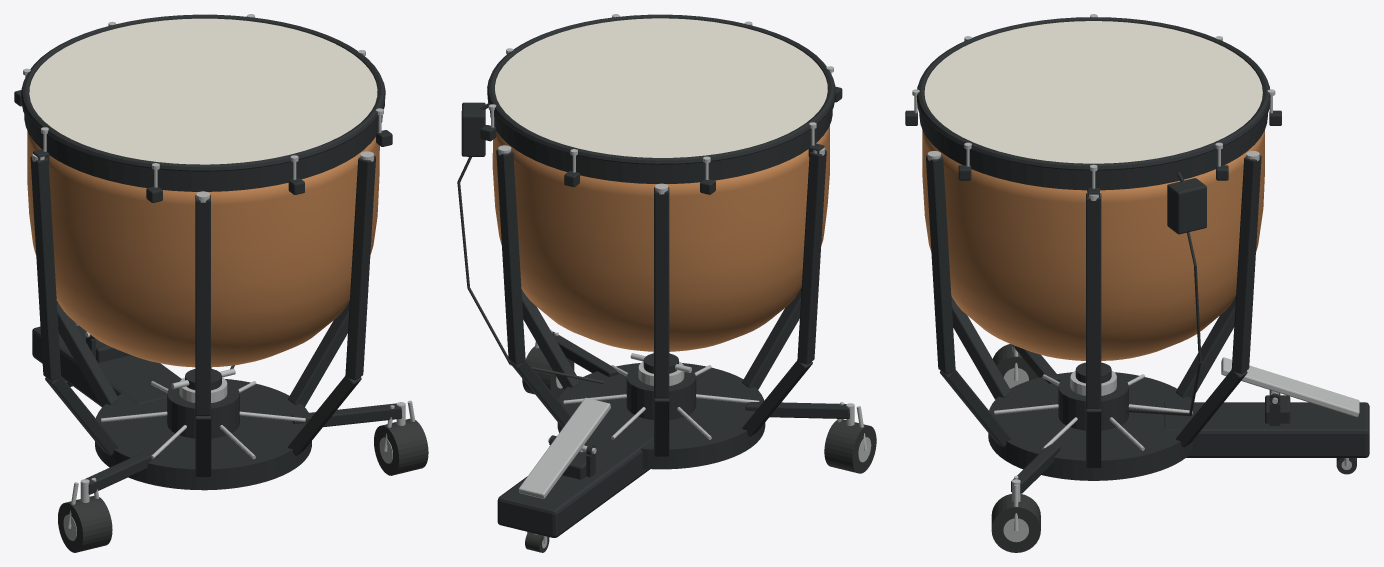
File: timpani_LOD0.glb
3 views of the same model, side by side, from view 1: azimuth 30°, elevation 25°; view 2: azimuth 150°, elevation 25°; view 3: azimuth 270°, elevation 25° (orthographic). The views are drawn at different scales.
Parts seen in each view (by area): view 1: Kettle shell with underside aperture, Taut drumhead, Lower radial platform, Counterhoop, Upper support band, Frame upper upright 5, Frame upper upright 3, Pedal pedestal, Frame upper upright 4, Counter hoop wall, Central mechanism housing, Wheel tire 1 (+8 smaller); view 2: Kettle shell with underside aperture, Taut drumhead, Lower radial platform, Pedal pedestal, Counterhoop, Upper support band, Frame upper upright 1, Frame upper upright 3, Frame upper upright 2, Pedal plate, Counter hoop wall, Central mechanism housing (+10 smaller); view 3: Kettle shell with underside aperture, Taut drumhead, Lower radial platform, Pedal pedestal, Counterhoop, Upper support band, Frame upper upright 1, Frame upper upright 5, Frame upper upright 0, Counter hoop wall, Pedal plate, Central mechanism housing (+10 smaller).
Boxes of the visible parts, x1,y1,x2,y2 form: Kettle shell with underside aperture: (27, 131, 379, 367); Taut drumhead: (29, 18, 377, 164); Lower radial platform: (95, 379, 311, 490); Counterhoop: (21, 14, 385, 171); Upper support band: (24, 114, 382, 191); Frame upper upright 5: (345, 155, 375, 380); Frame upper upright 3: (30, 156, 61, 380); Pedal pedestal: (32, 325, 181, 406); Frame upper upright 4: (195, 195, 210, 415); Counter hoop wall: (21, 99, 384, 177); Central mechanism housing: (167, 382, 239, 438); Wheel tire 1: (374, 418, 428, 475); Kettle shell with underside aperture: (492, 125, 829, 351); Taut drumhead: (495, 18, 827, 157); Lower radial platform: (557, 363, 765, 469); Pedal pedestal: (497, 424, 653, 537); Counterhoop: (487, 14, 835, 164); Upper support band: (490, 110, 832, 183); Frame upper upright 1: (496, 149, 525, 364); Frame upper upright 3: (797, 150, 826, 364); Frame upper upright 2: (654, 187, 669, 398); Pedal plate: (518, 397, 610, 498); Counter hoop wall: (487, 96, 834, 170); Central mechanism housing: (626, 366, 696, 419); Kettle shell with underside aperture: (922, 130, 1264, 360); Taut drumhead: (924, 21, 1262, 163); Lower radial platform: (988, 372, 1192, 480); Pedal pedestal: (1164, 402, 1369, 457); Counterhoop: (916, 17, 1270, 170); Upper support band: (919, 114, 1267, 190); Frame upper upright 1: (1231, 155, 1261, 373); Frame upper upright 5: (926, 155, 955, 373); Frame upper upright 0: (1086, 193, 1101, 408); Counter hoop wall: (917, 100, 1270, 176); Pedal plate: (1221, 357, 1359, 417); Central mechanism housing: (1058, 375, 1128, 430).
Bounding box in the file's own units: 0.8 × 0.85 × 0.94.
